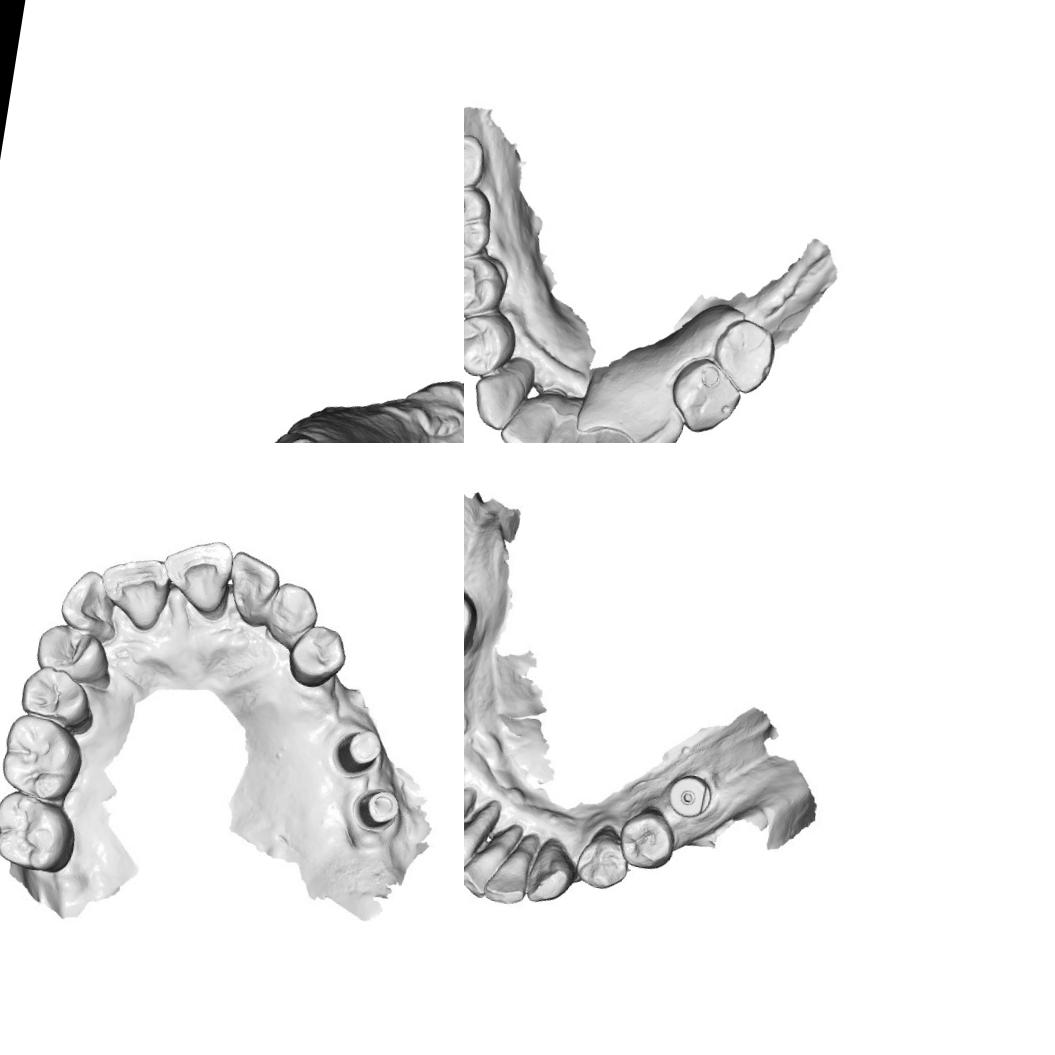abutment: (330, 720, 386, 780), (350, 780, 410, 834)
canine: (467, 358, 533, 437), (525, 841, 577, 908), (631, 410, 691, 443)
implant: (666, 774, 713, 819)
incisor: (96, 551, 175, 628), (158, 538, 231, 614), (218, 548, 282, 632), (56, 567, 120, 639), (484, 840, 534, 913), (497, 390, 559, 443), (464, 830, 508, 900), (527, 413, 579, 443), (585, 422, 641, 443), (464, 820, 479, 887), (562, 425, 607, 443)
molar: (0, 711, 85, 811), (0, 791, 86, 880), (464, 180, 499, 268), (464, 126, 490, 196)
premolar: (664, 351, 748, 439), (708, 312, 781, 399), (19, 664, 97, 733), (34, 623, 114, 687), (260, 574, 324, 649), (614, 806, 682, 874), (464, 304, 522, 383), (284, 622, 350, 691), (574, 822, 634, 890), (464, 249, 513, 325)
